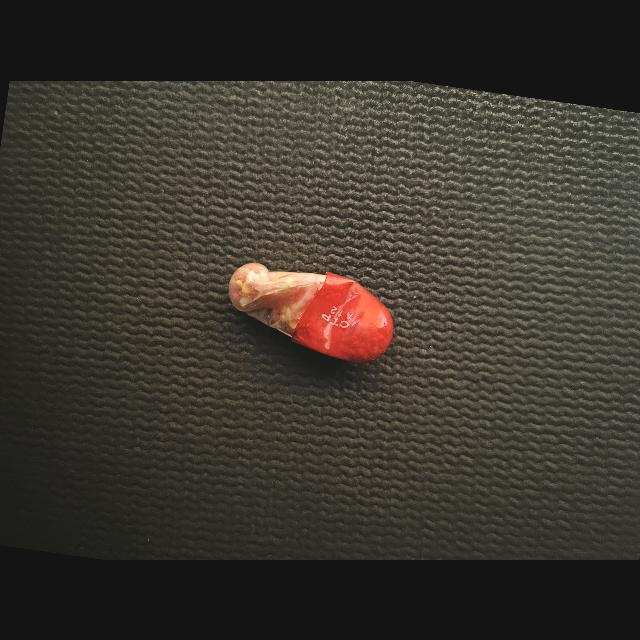Defective Capsule: (229, 262, 394, 362)
